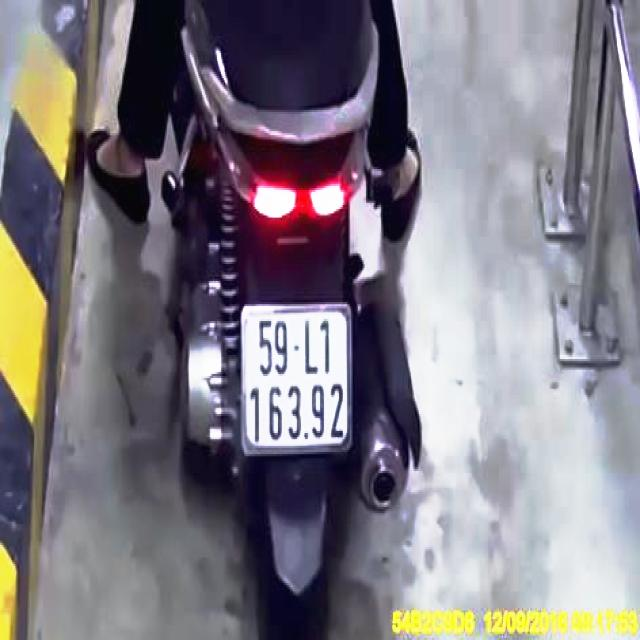license_plate: (245, 310, 355, 451)
